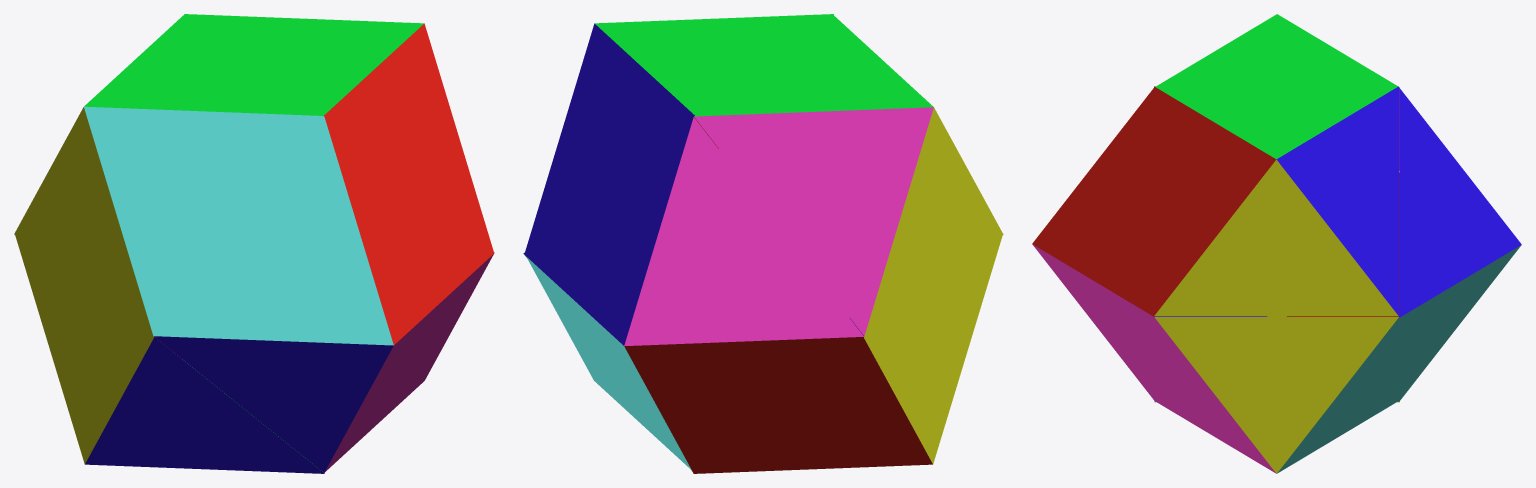
The model's file is dodeca.glb.
3 renders of one model, left to right at view 1: azimuth 30°, elevation 25°; view 2: azimuth 150°, elevation 25°; view 3: azimuth 270°, elevation 25°, orthographic. The views are drawn at different scales.
Parts seen in each view (by area): view 1: Cube; view 2: Cube; view 3: Cube.
Part boxes in pixels (box(x1,y1,x2,y2)): Cube: box(14, 14, 494, 473); Cube: box(523, 14, 1003, 473); Cube: box(1032, 14, 1521, 473).
Bounding box in the file's own units: 2.83 × 2.84 × 4.
